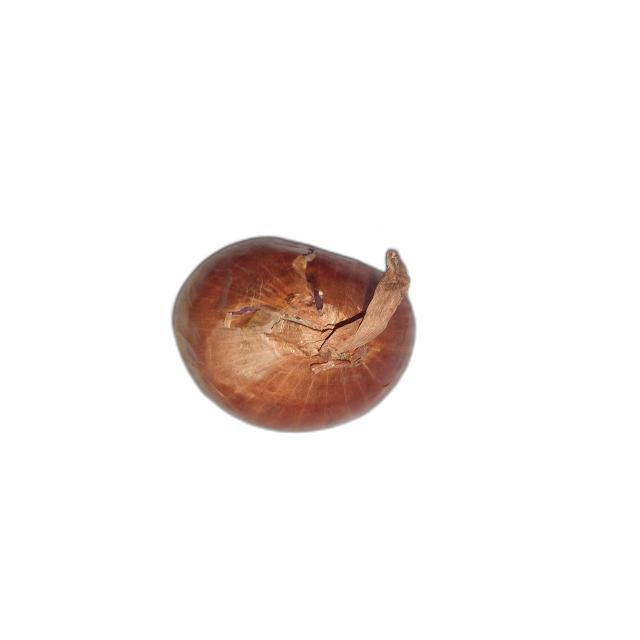onion: (174, 238, 415, 432)
